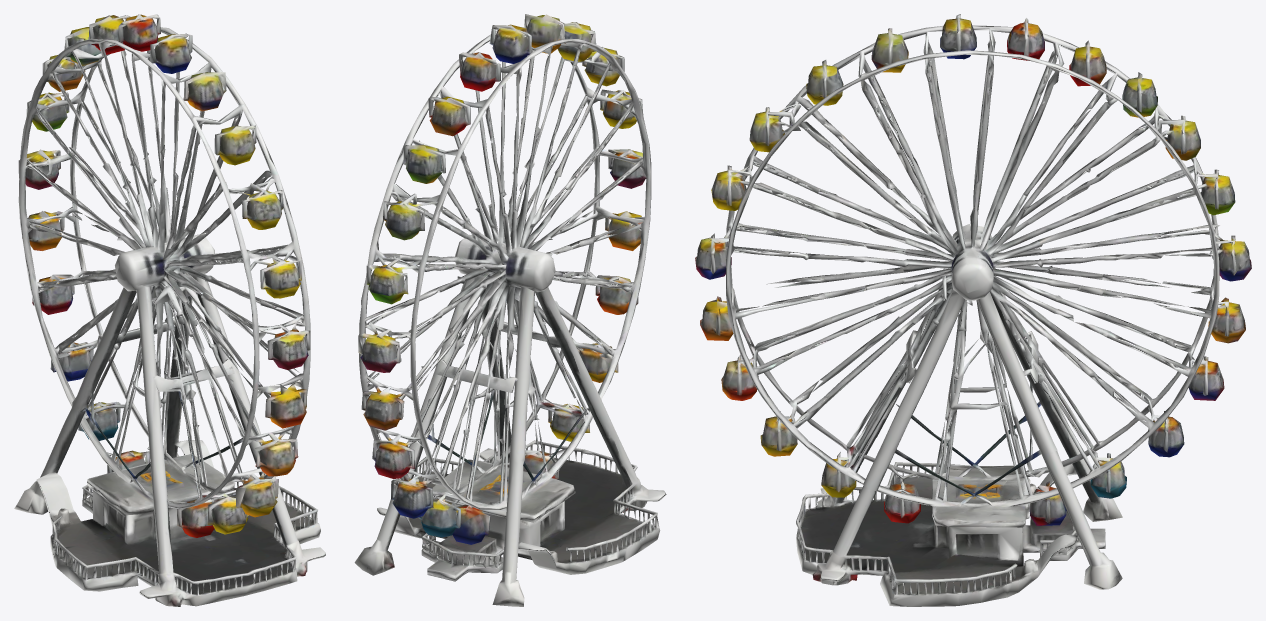
Rendered from ferris_wheel.glb.
The picture shows the model from 3 angles, left to right: view 1: azimuth 30°, elevation 25°; view 2: azimuth 150°, elevation 25°; view 3: azimuth 270°, elevation 25°; orthographic projection. The views are drawn at different scales.
Parts seen in each view (by area): view 1: tripo_node_0120352e-edea-452c-8d33-47616c0a7fa7; view 2: tripo_node_0120352e-edea-452c-8d33-47616c0a7fa7; view 3: tripo_node_0120352e-edea-452c-8d33-47616c0a7fa7.
Boxes of the visible parts, bbox=[...] form: tripo_node_0120352e-edea-452c-8d33-47616c0a7fa7: bbox=[14, 14, 325, 606]; tripo_node_0120352e-edea-452c-8d33-47616c0a7fa7: bbox=[354, 14, 666, 606]; tripo_node_0120352e-edea-452c-8d33-47616c0a7fa7: bbox=[695, 14, 1251, 606].
Bounding box in the file's own units: 0.4831 × 1 × 0.9519.
1 material, 1 textured.
